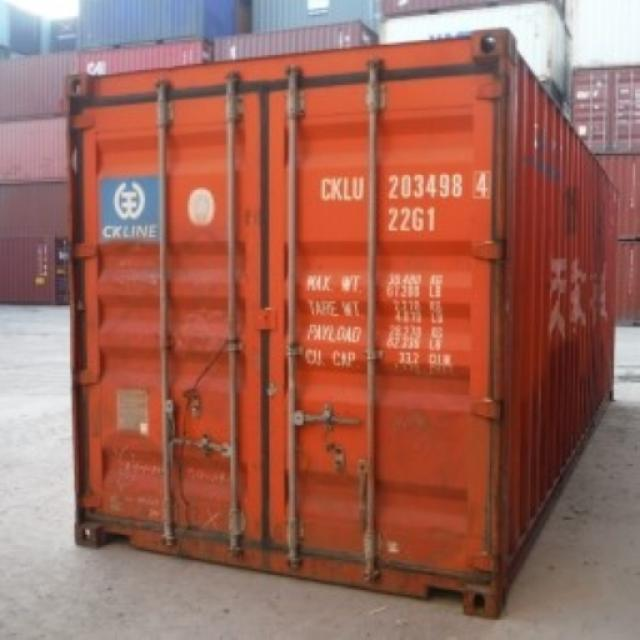ISO: (387, 209, 440, 234)
container_number: (323, 174, 490, 201)
